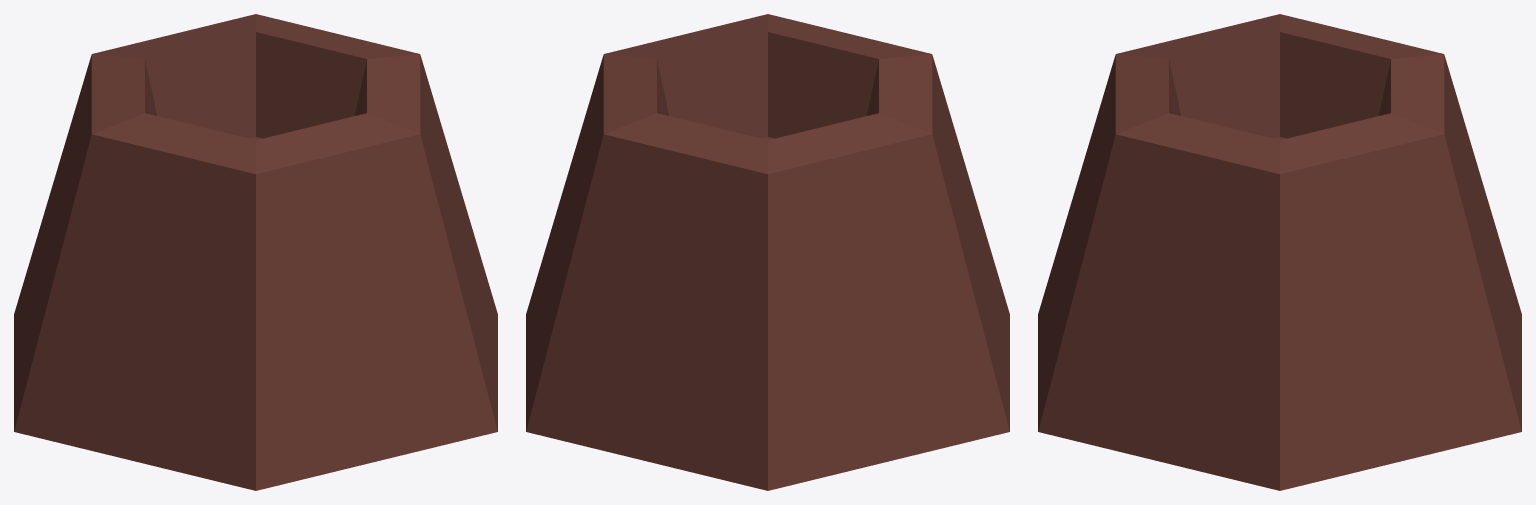
Rendered from drySmall_craterA.FBX.
3 renders of one model, left to right at view 1: azimuth 30°, elevation 25°; view 2: azimuth 150°, elevation 25°; view 3: azimuth 270°, elevation 25°, orthographic.
Visible parts, largest first — view 1: drySmall_craterA; view 2: drySmall_craterA; view 3: drySmall_craterA.
Boxes of the visible parts, x1,y1,x2,y2 form: drySmall_craterA: (14,14,497,490); drySmall_craterA: (526,14,1009,490); drySmall_craterA: (1038,14,1521,490).
Bounding box in the file's own units: 201 × 114 × 174.
